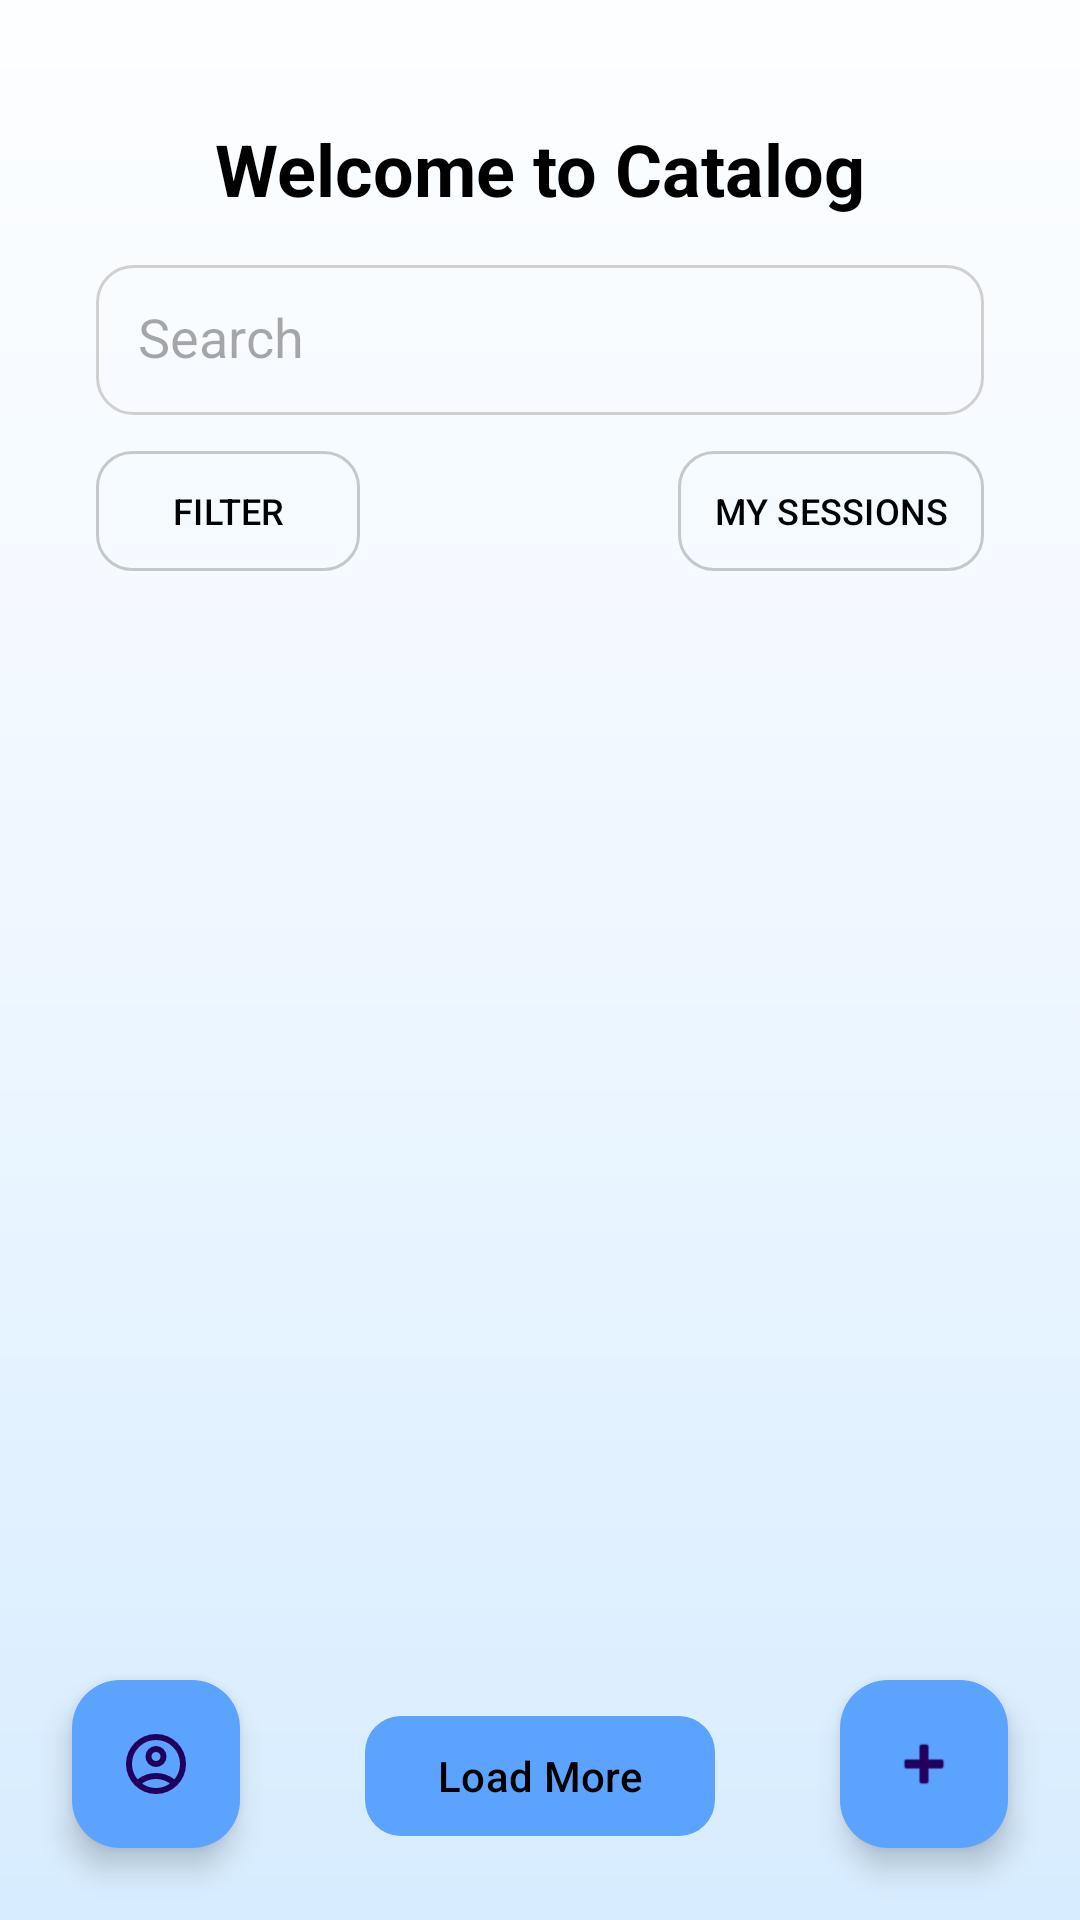

Icons on this 1080×1920 Android screen, each with the point to tap as [x,y]:
Add new course: [924,1764]
Profile: [156,1764]
